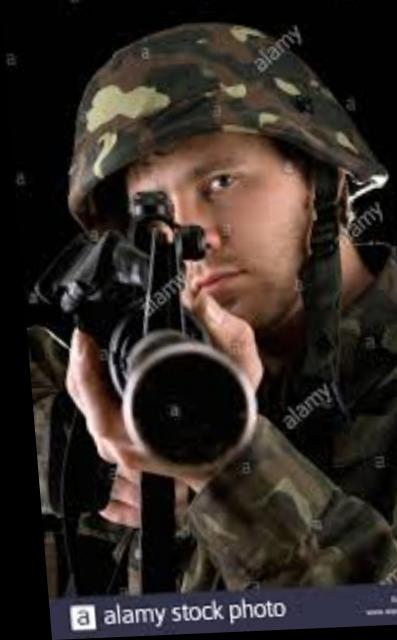other: (43, 59, 396, 574)
